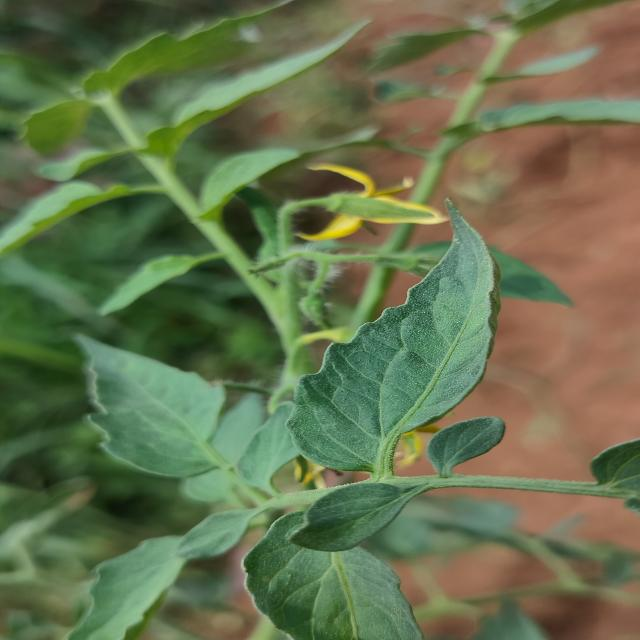tomato_healthy: (276, 205, 504, 488), (63, 330, 279, 483)
